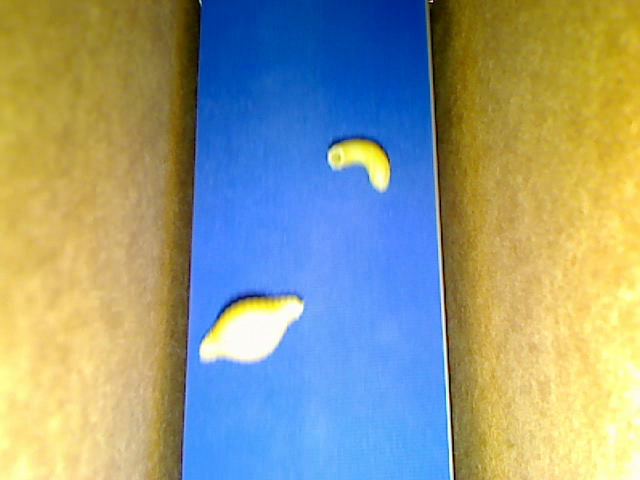elbow: (326, 138, 391, 191)
shell: (199, 293, 304, 364)
